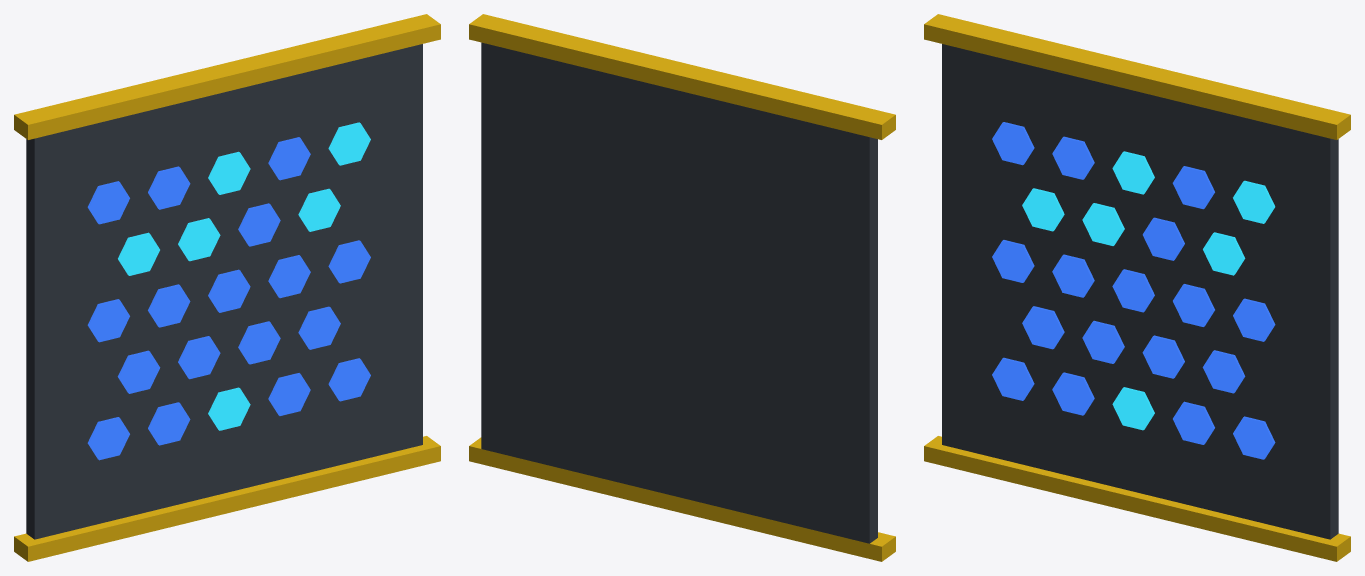
Rendered from forcefield_deflector_grid.glb.
The picture shows the model from 3 angles, left to right: view 1: azimuth 30°, elevation 25°; view 2: azimuth 150°, elevation 25°; view 3: azimuth 330°, elevation 25°; orthographic projection.
Parts seen in each view (by area): view 1: forcefield_deflector_grid; view 2: forcefield_deflector_grid; view 3: forcefield_deflector_grid.
Part boxes in pixels (bbox=[...]): forcefield_deflector_grid: bbox=[14, 14, 440, 561]; forcefield_deflector_grid: bbox=[469, 14, 895, 561]; forcefield_deflector_grid: bbox=[924, 14, 1350, 561].
Bounding box in the file's own units: 1.7 × 1.72 × 0.1.
